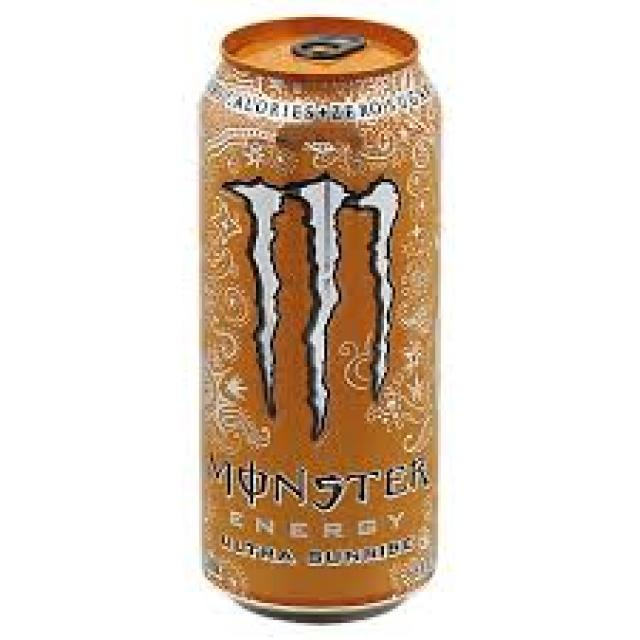Cans: (189, 6, 453, 629)
